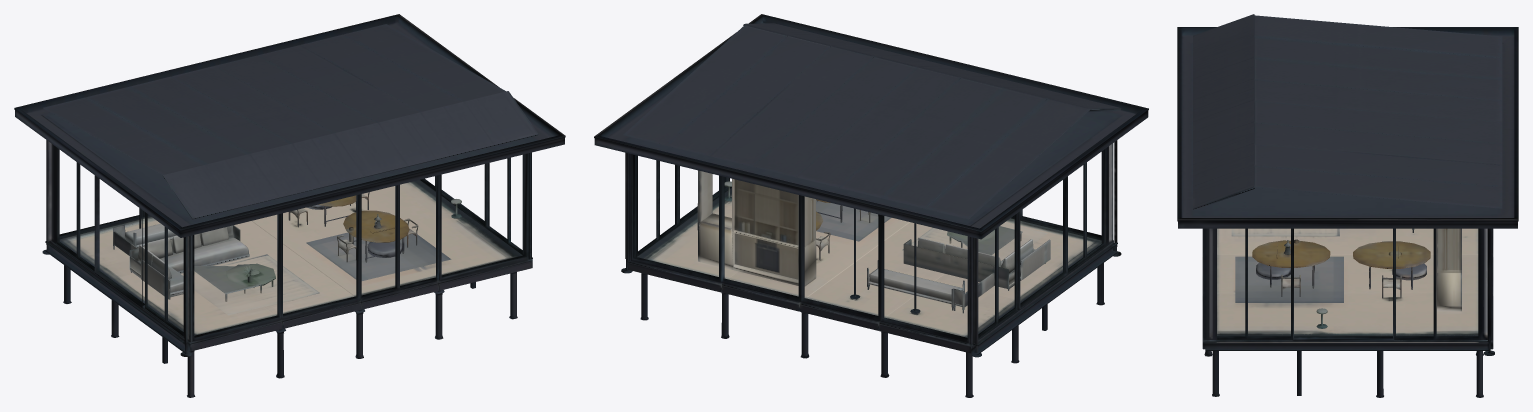
The model's file is glass-house.glb.
3 views of the same model, side by side, from view 1: azimuth 30°, elevation 25°; view 2: azimuth 150°, elevation 25°; view 3: azimuth 270°, elevation 25° (orthographic). The views are drawn at different scales.
Visible parts, largest first — view 1: tripo_node_2fd65a93-7000-46fe-aa8e-65bae351d226; view 2: tripo_node_2fd65a93-7000-46fe-aa8e-65bae351d226; view 3: tripo_node_2fd65a93-7000-46fe-aa8e-65bae351d226.
Boxes of the visible parts, x1,y1,x2,y2 form: tripo_node_2fd65a93-7000-46fe-aa8e-65bae351d226: (14,14,565,397); tripo_node_2fd65a93-7000-46fe-aa8e-65bae351d226: (594,14,1148,397); tripo_node_2fd65a93-7000-46fe-aa8e-65bae351d226: (1177,14,1518,397).
Bounding box in the file's own units: 0.9995 × 0.52 × 0.7485.
Materials: 1 (1 with a texture image).
